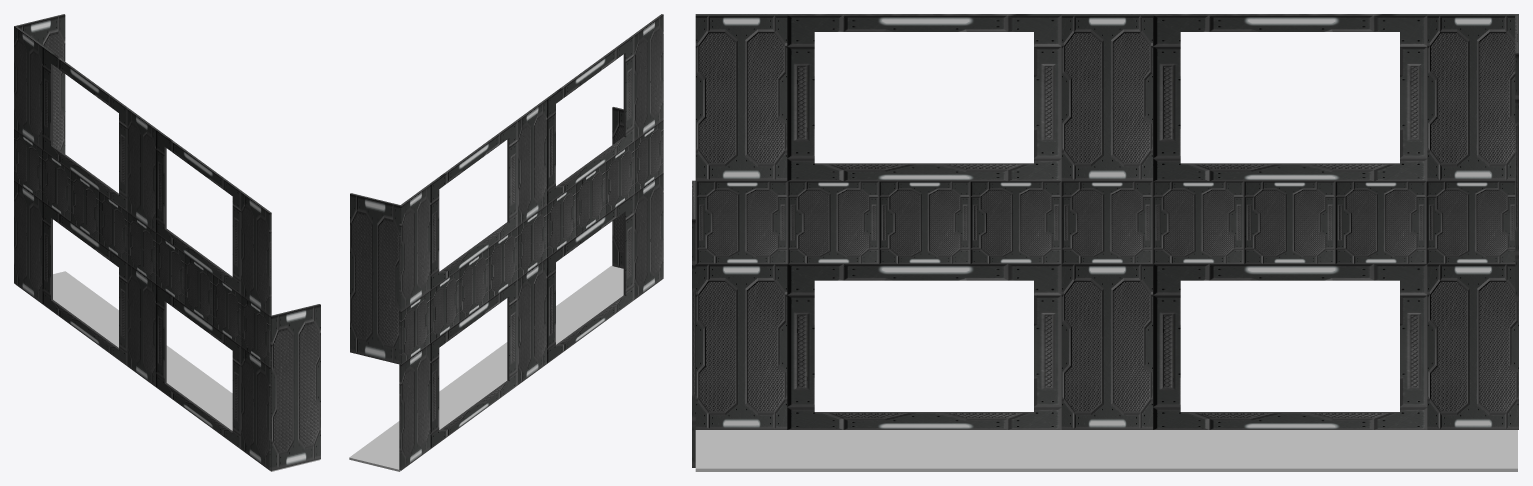
File: CouloirLabo2.fbx
3 renders of one model, left to right at view 1: azimuth 30°, elevation 25°; view 2: azimuth 150°, elevation 25°; view 3: azimuth 270°, elevation 25°, orthographic. The views are drawn at different scales.
Parts seen in each view (by area): view 1: Cube.003, Cube.014, Cube.004, Cube, Cube.008, Cube.011, Cube.007, Cube.013, Cube.002, Cube.005, Cube.012, Cube.010 (+3 smaller); view 2: Cube.003, Cube.006, Cube.004, Cube, Cube.008, Cube.011, Cube.009, Cube.002, Cube.012, Cube.001, Cube.007, Cube.013 (+3 smaller); view 3: Cube.003, Cube.009, Cube.004, Cube, Cube.008, Cube.011, Cube.007, Cube.005, Cube.001, Cube.013, Cube.010, Cube.012 (+3 smaller).
Part boxes in pixels (x1,y1,x2,y2): Cube.003: [14, 129, 270, 367]; Cube.014: [270, 304, 320, 470]; Cube.004: [156, 129, 242, 294]; Cube: [42, 46, 129, 211]; Cube.008: [156, 284, 241, 449]; Cube.011: [42, 202, 127, 366]; Cube.007: [241, 192, 271, 315]; Cube.013: [241, 347, 270, 470]; Cube.002: [14, 26, 43, 149]; Cube.005: [127, 109, 157, 232]; Cube.012: [14, 180, 42, 303]; Cube.010: [127, 264, 155, 386]; Cube.003: [399, 120, 663, 364]; Cube.006: [350, 193, 400, 364]; Cube.004: [545, 35, 634, 205]; Cube: [429, 120, 517, 290]; Cube.008: [547, 194, 634, 363]; Cube.011: [430, 280, 517, 448]; Cube.009: [466, 266, 658, 384]; Cube.002: [399, 184, 430, 311]; Cube.012: [399, 344, 430, 470]; Cube.001: [349, 372, 510, 471]; Cube.007: [633, 14, 663, 140]; Cube.013: [634, 173, 663, 299]; Cube.003: [695, 181, 1515, 264]; Cube.009: [695, 430, 1152, 471]; Cube.004: [787, 14, 1061, 181]; Cube: [1153, 14, 1427, 181]; Cube.008: [787, 264, 1061, 429]; Cube.011: [1153, 264, 1427, 429]; Cube.007: [695, 14, 787, 181]; Cube.005: [1061, 14, 1152, 181]; Cube.001: [1150, 430, 1517, 471]; Cube.013: [695, 264, 787, 429]; Cube.010: [1061, 264, 1152, 429]; Cube.012: [1427, 264, 1518, 429].
Size of the model in its own units: 520 by 2520 by 4520.
